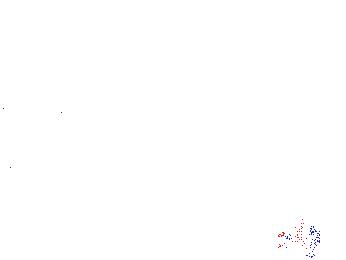flame jellyfish: (276, 195, 346, 253), (31, 74, 75, 140)
